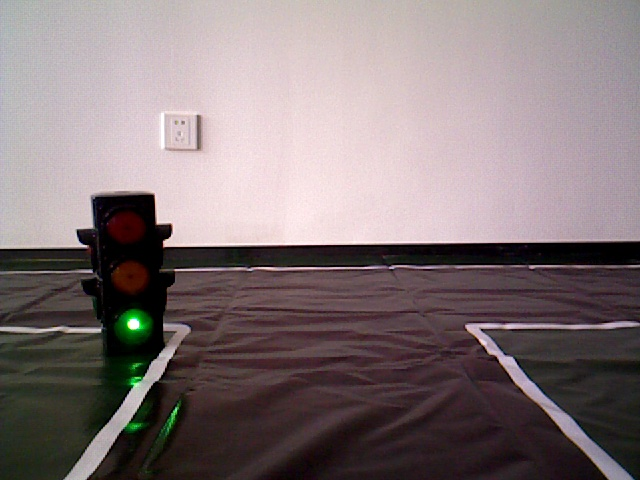green: (93, 200, 166, 341)
